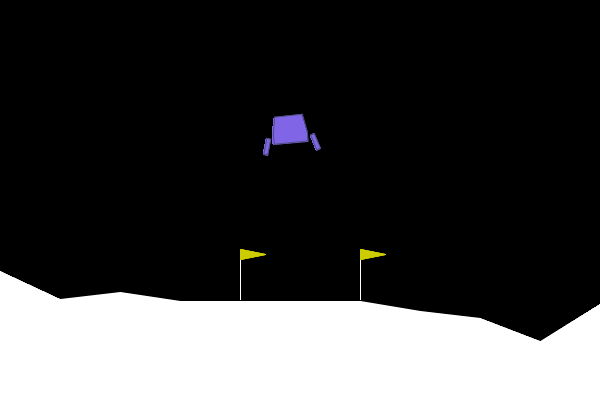lander: (258, 111, 322, 157)
